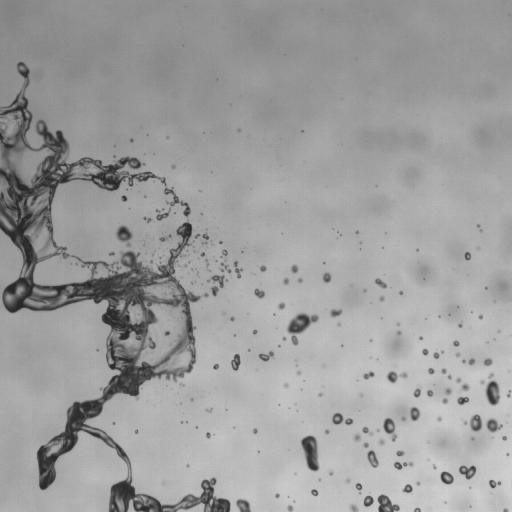droplet: (286, 312, 318, 345), (377, 494, 399, 511), (208, 275, 226, 295), (116, 225, 132, 247), (383, 418, 397, 441), (464, 414, 482, 431), (386, 371, 407, 383), (458, 465, 476, 479), (486, 418, 502, 432), (367, 450, 378, 467), (236, 499, 251, 511), (440, 471, 453, 484), (259, 350, 274, 361), (231, 354, 240, 370), (156, 209, 169, 220), (410, 407, 420, 421), (220, 261, 231, 273), (374, 278, 387, 288), (363, 494, 373, 507), (457, 396, 469, 405), (330, 309, 342, 317), (489, 480, 501, 488), (322, 272, 331, 282), (254, 289, 264, 298), (363, 371, 374, 379), (413, 386, 421, 397), (362, 427, 373, 435), (403, 484, 412, 493), (483, 358, 492, 366), (460, 383, 469, 391), (291, 264, 298, 273), (355, 483, 362, 492), (349, 504, 358, 511), (444, 387, 451, 395), (354, 433, 361, 441), (278, 302, 285, 309), (468, 358, 475, 365), (221, 249, 227, 257), (464, 252, 470, 260), (396, 450, 404, 456), (422, 348, 428, 355), (311, 489, 318, 495), (143, 217, 151, 222), (121, 195, 127, 201), (260, 265, 266, 271), (453, 340, 459, 346), (433, 352, 439, 358), (428, 368, 434, 374), (427, 390, 433, 396), (287, 505, 293, 511), (283, 278, 288, 284), (379, 439, 384, 445), (507, 390, 511, 397), (379, 296, 384, 301), (455, 352, 460, 357), (213, 364, 218, 369), (441, 368, 446, 373), (456, 378, 461, 383), (442, 398, 447, 403), (363, 442, 368, 447), (206, 432, 210, 438), (200, 252, 205, 256), (230, 316, 234, 321), (253, 329, 257, 334), (437, 416, 441, 421), (253, 428, 257, 433), (325, 429, 329, 434), (298, 278, 302, 282), (478, 315, 482, 319), (458, 323, 462, 327), (397, 331, 401, 335), (284, 383, 288, 387), (318, 392, 322, 396), (401, 416, 405, 420), (502, 436, 506, 440), (329, 471, 333, 475), (346, 478, 350, 482), (416, 481, 420, 485), (275, 493, 279, 497), (109, 252, 114, 255), (183, 263, 188, 266), (171, 165, 175, 168), (282, 337, 286, 340), (462, 359, 465, 363), (447, 375, 451, 378), (480, 380, 484, 383), (207, 409, 211, 412), (399, 291, 402, 294), (419, 336, 422, 339), (297, 371, 300, 374), (135, 430, 138, 433), (433, 465, 436, 468), (130, 139, 133, 141), (477, 224, 479, 227), (337, 323, 340, 325), (181, 383, 183, 386), (360, 393, 362, 396), (238, 129, 240, 131), (356, 231, 358, 233), (220, 241, 222, 243), (397, 323, 399, 325)
ligament: (0, 62, 229, 511), (300, 435, 319, 471), (485, 373, 500, 405), (332, 413, 353, 425), (233, 261, 242, 277), (394, 462, 413, 469), (159, 235, 170, 241), (205, 258, 209, 266), (413, 507, 421, 511), (502, 508, 508, 511)
